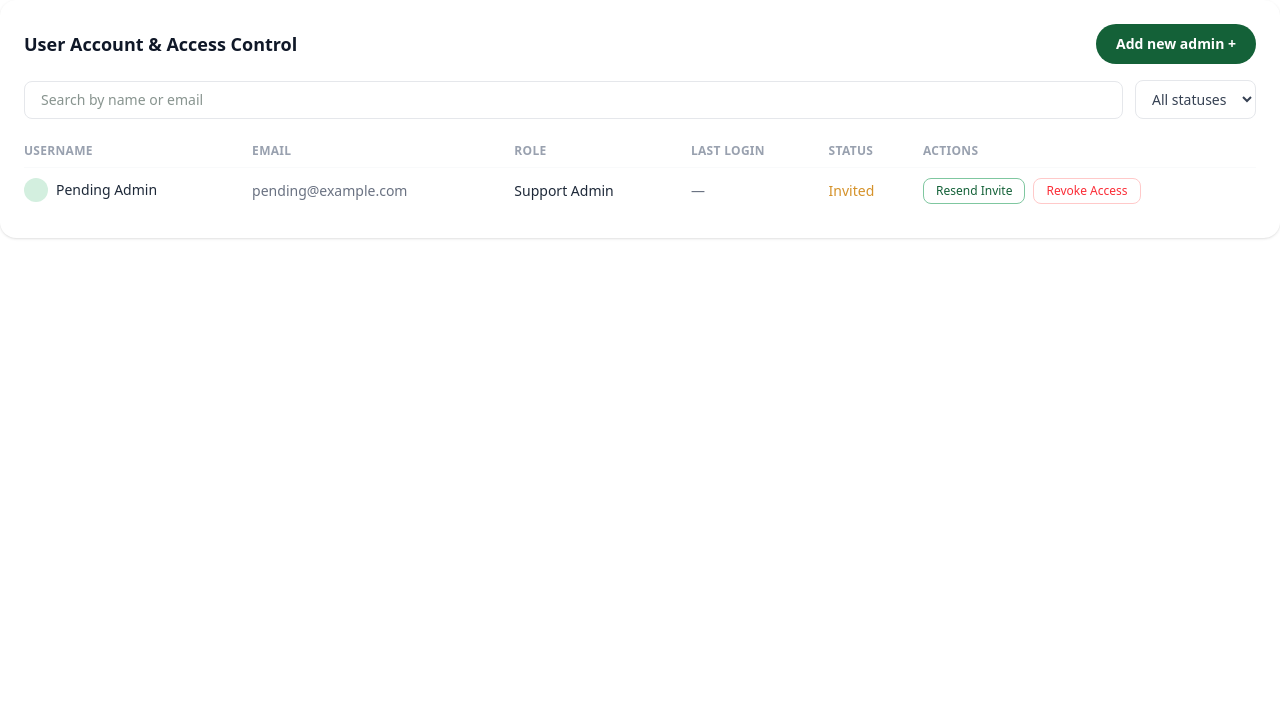
Test: UserManagementTable › asks for confirmation via a modal, not a native dialog, before revoking access
This screenshot has width=1280, height=720.
Click the button "Revoke Access" at (1087, 191), box x1=1034 y1=178 x2=1141 y2=204
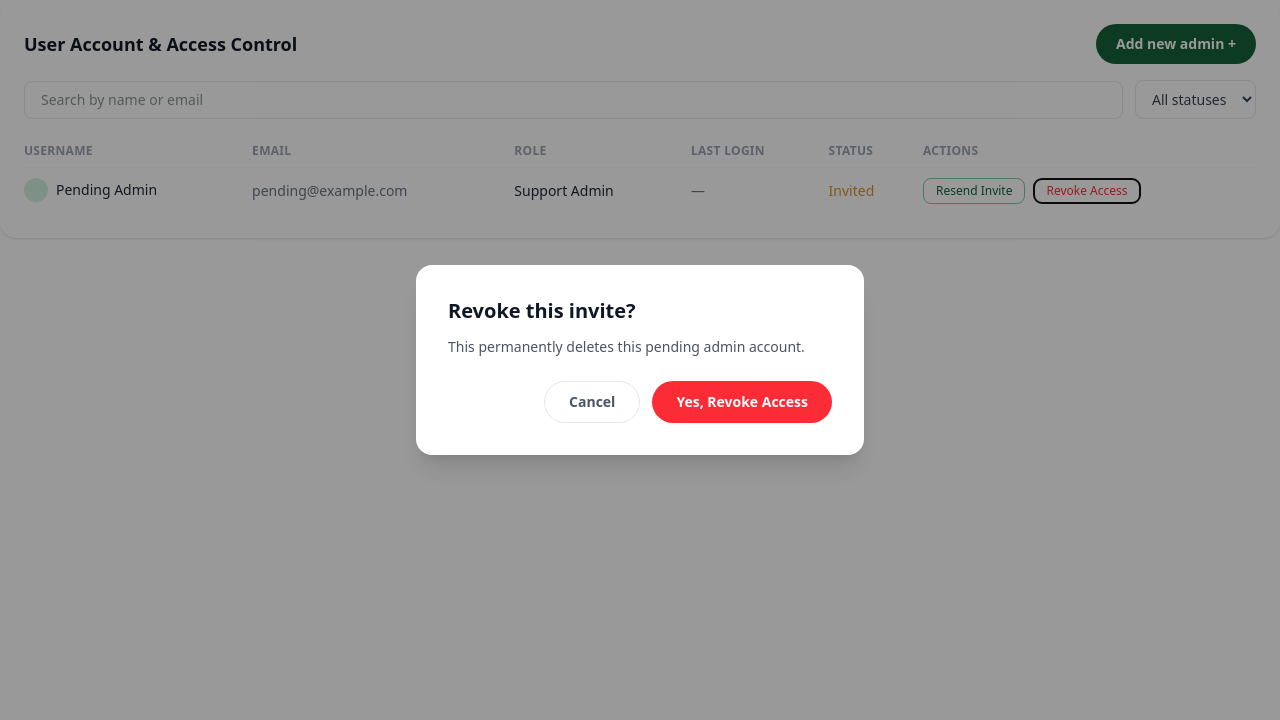
Result: the text "This permanently deletes this pending admin account." is shown at x1=448 y1=337 x2=832 y2=357
Click the button "Cancel" at (592, 402), box x1=544 y1=381 x2=640 y2=423
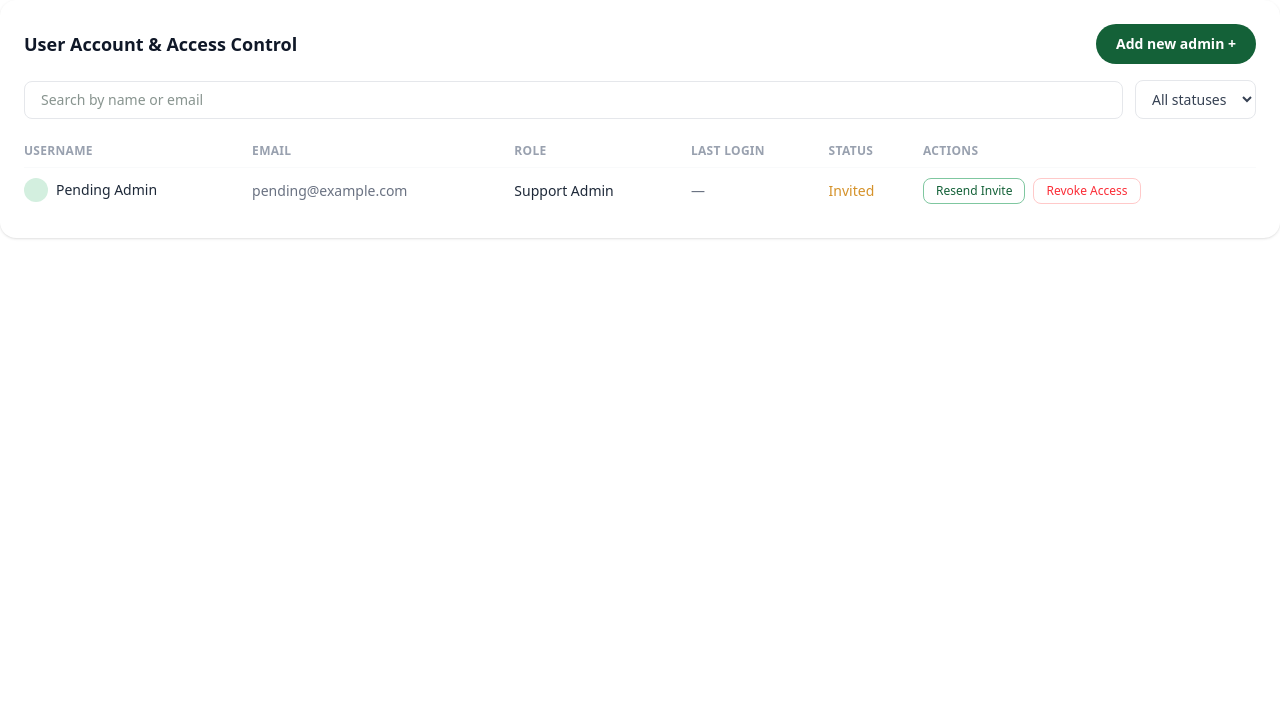
Result: the button "Yes, Revoke Access" is gone
